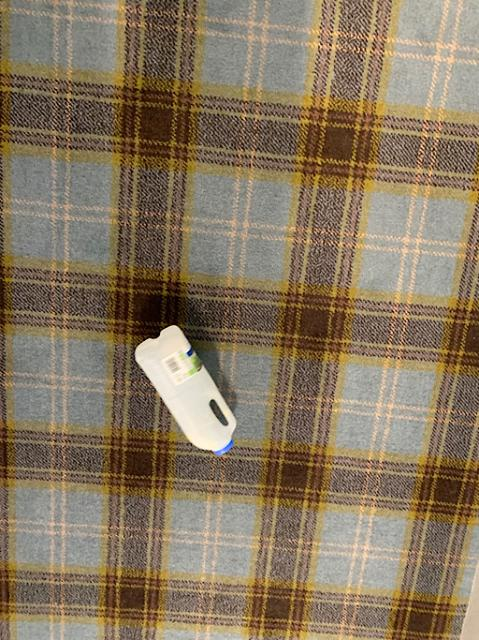plastic: (134, 324, 234, 453)
